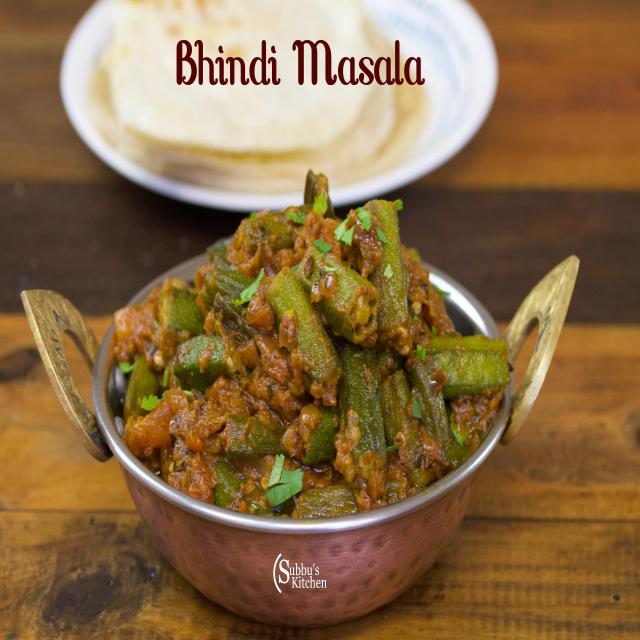Bhindi Masala: (105, 166, 515, 524)
